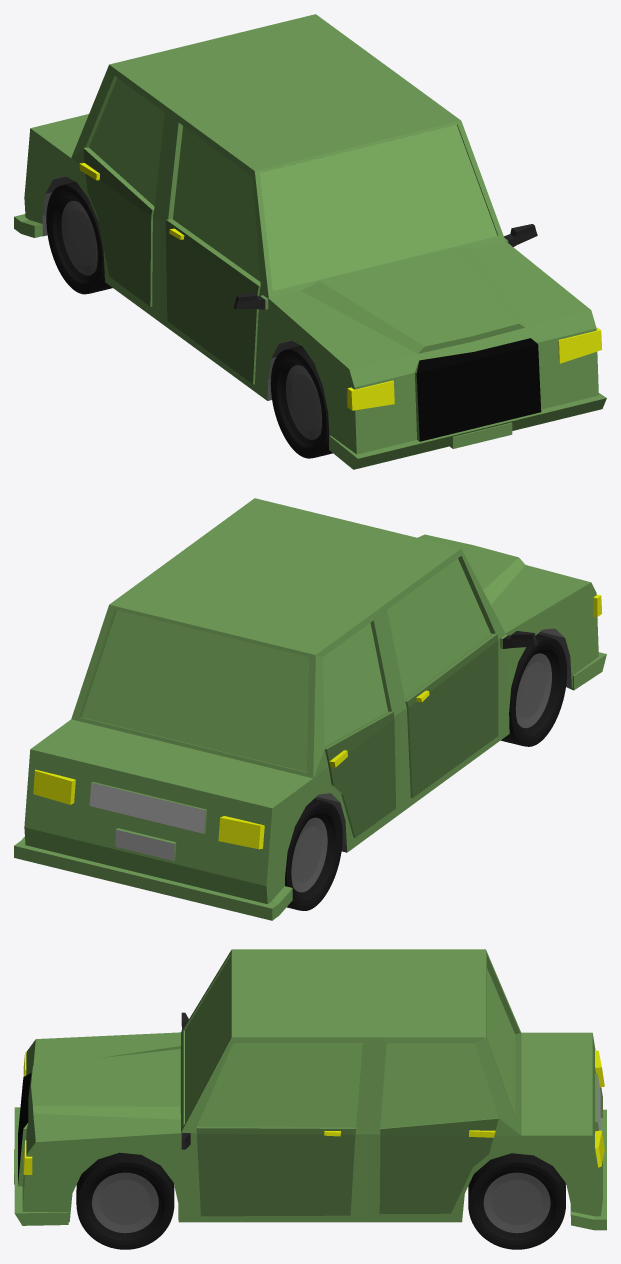
The model's file is Simple_Car_Low_Poly.glb.
The picture shows the model from 3 angles, top to bottom: view 1: azimuth 30°, elevation 25°; view 2: azimuth 150°, elevation 25°; view 3: azimuth 270°, elevation 25°; orthographic projection. The views are drawn at different scales.
Parts seen in each view (by area): view 1: unnamed (×11); view 2: unnamed (×10); view 3: unnamed (×9).
Boxes of the visible parts, left/top/right/bottom form: unnamed (×11): left=14, top=14, right=606, bottom=469; unnamed (×10): left=14, top=498, right=606, bottom=920; unnamed (×9): left=14, top=949, right=606, bottom=1249.
Size of what is drawn, in the model's own units: 2.1 by 1.57 by 4.1.
